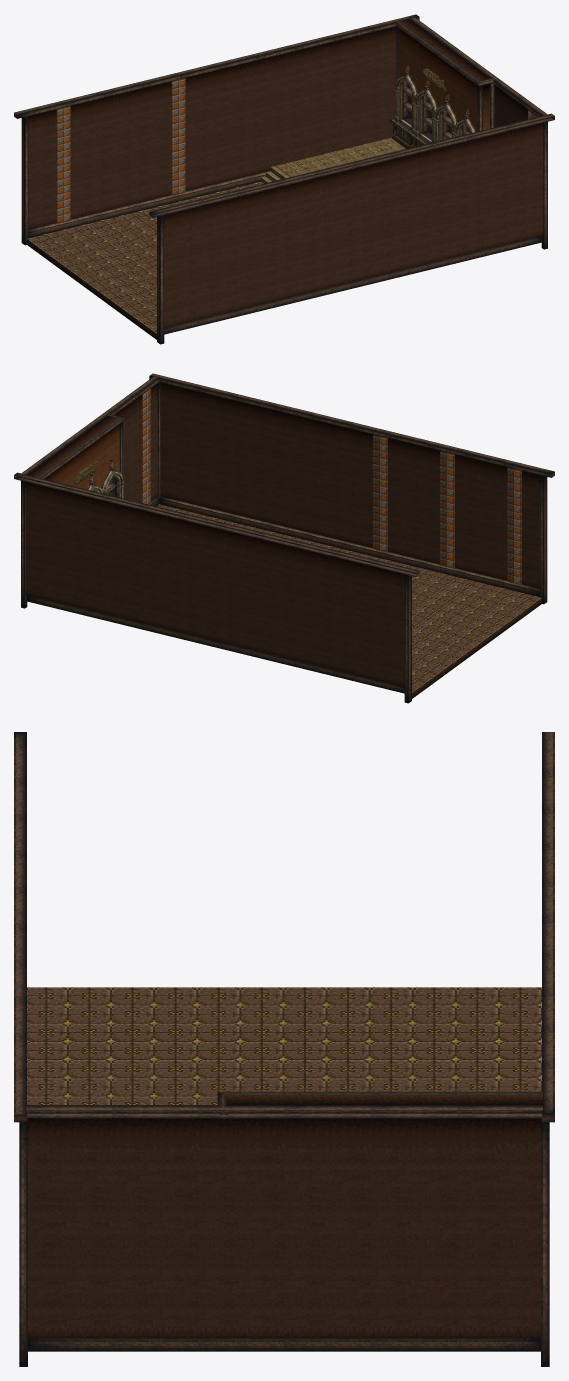
File: EnvBdgMD_Sea_A_Indoor_Pub_A_1F.FBX
3 renders of one model, top to bottom at view 1: azimuth 30°, elevation 25°; view 2: azimuth 150°, elevation 25°; view 3: azimuth 270°, elevation 25°, orthographic. The views are drawn at different scales.
Visible parts, largest first — view 1: EnvBdgMD_Sea_A_Indoor_Pub_A_1F; view 2: EnvBdgMD_Sea_A_Indoor_Pub_A_1F; view 3: EnvBdgMD_Sea_A_Indoor_Pub_A_1F.
Boxes of the visible parts, x1,y1,x2,y2 form: EnvBdgMD_Sea_A_Indoor_Pub_A_1F: [14, 14, 554, 344]; EnvBdgMD_Sea_A_Indoor_Pub_A_1F: [14, 373, 554, 703]; EnvBdgMD_Sea_A_Indoor_Pub_A_1F: [14, 732, 554, 1366].
Size of the model in its own units: 2100 by 660 by 1255.
1 material, 1 textured.
